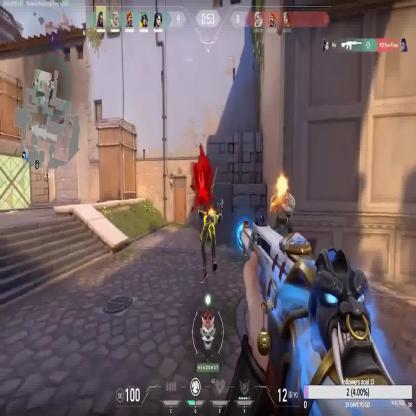enemy: (270, 174, 296, 292)
enemy_head: (276, 174, 288, 198)
